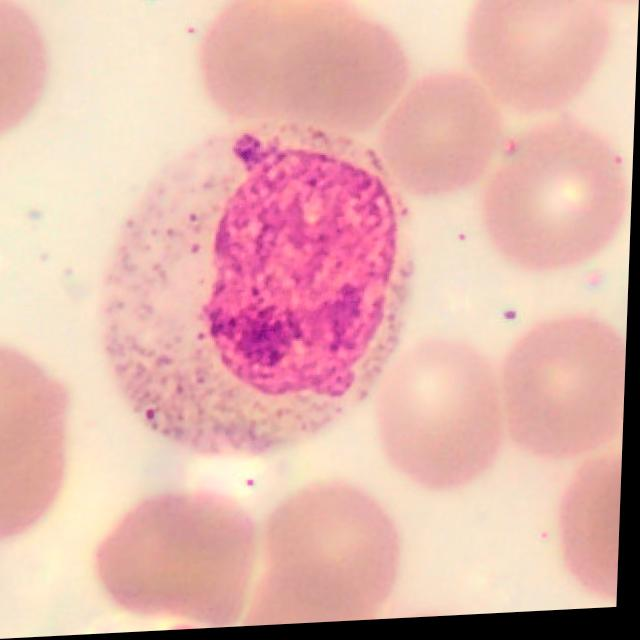Mielocito: (101, 125, 412, 457)
